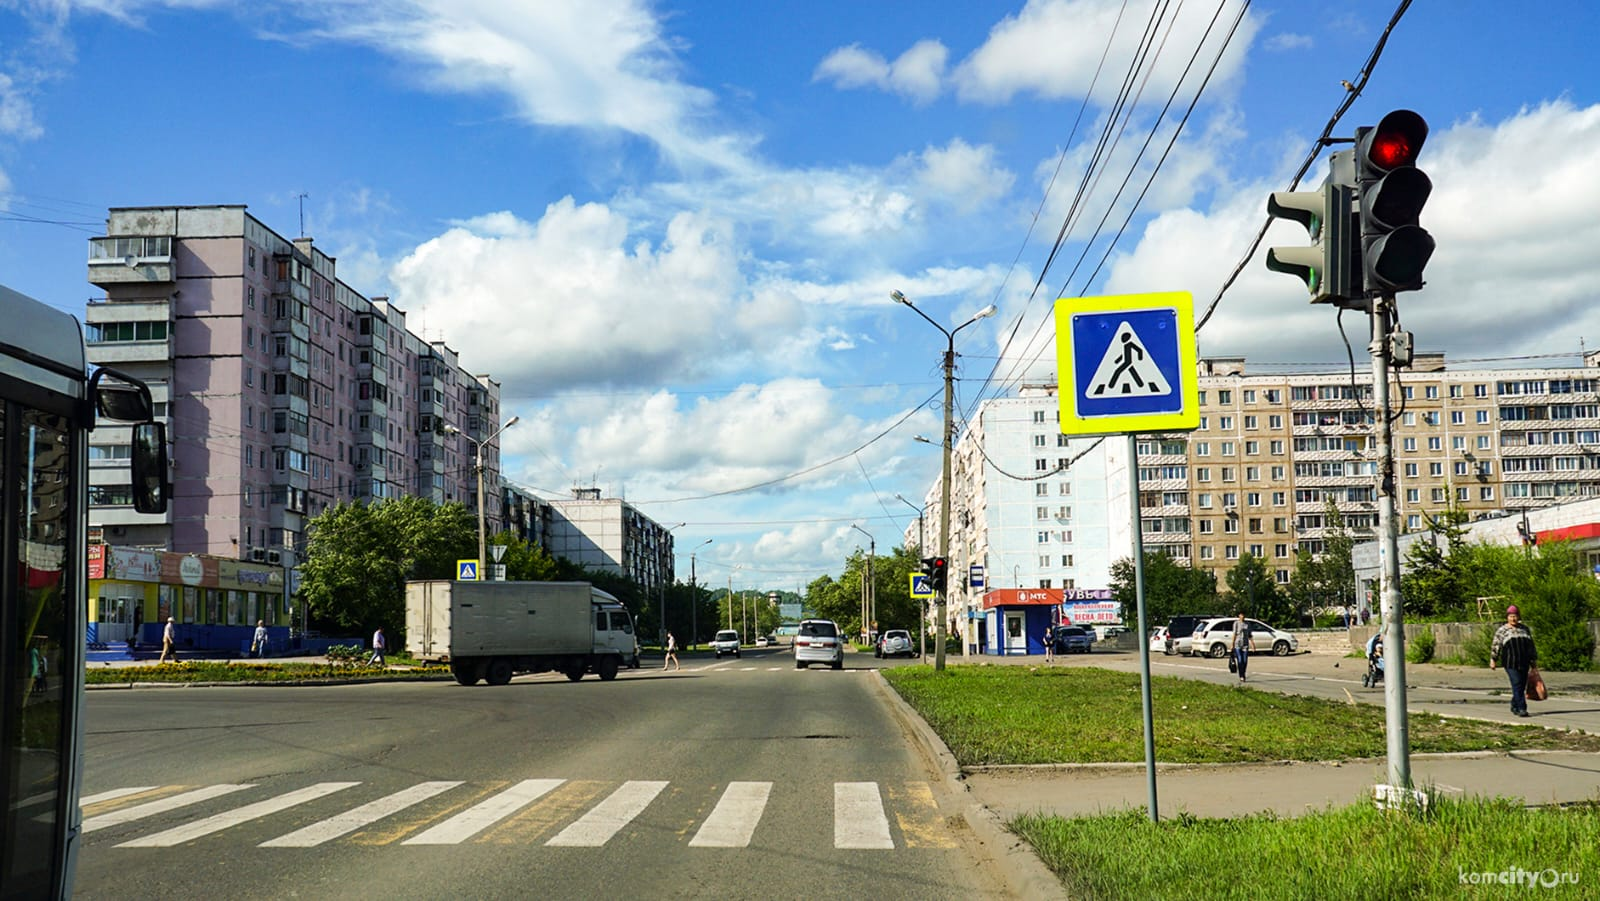tl: (1264, 105, 1453, 311)
